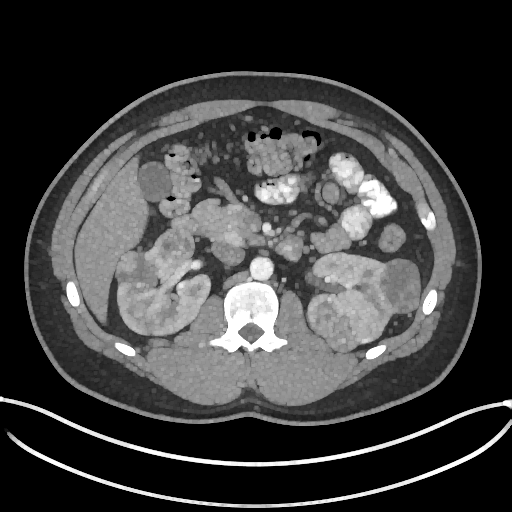Lesion: (370, 256, 425, 316), (111, 249, 157, 287)
